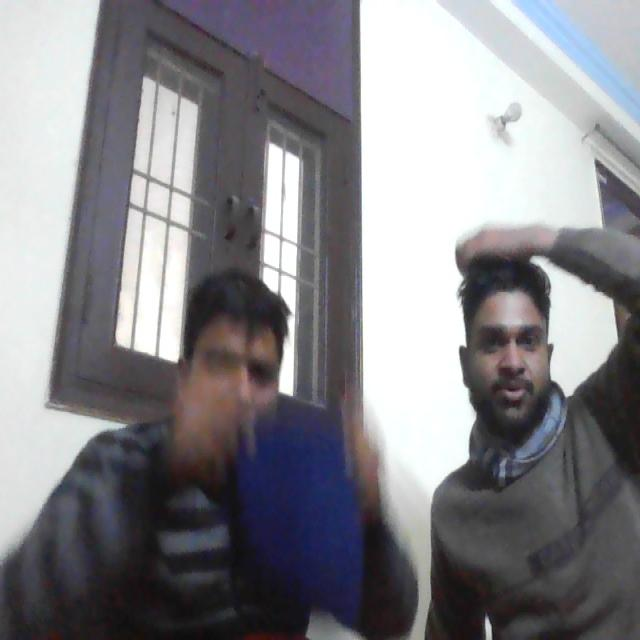real: (169, 257, 289, 484)
